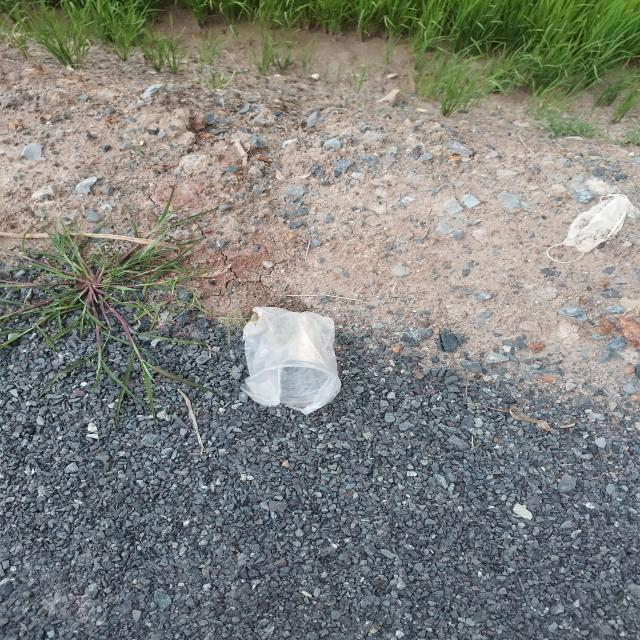mask: (546, 194, 630, 264)
plastic glass: (239, 306, 342, 414)
